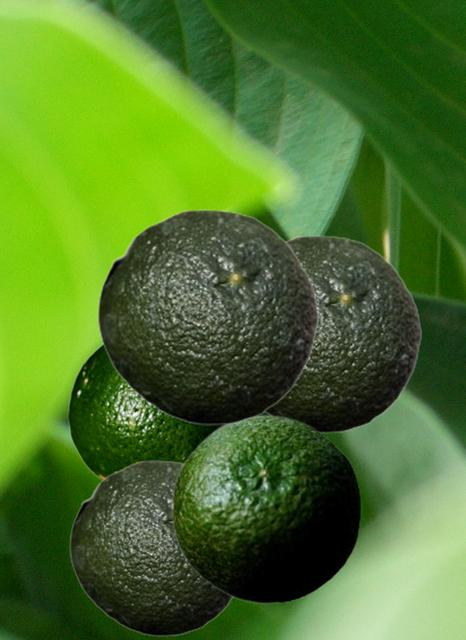calamansi: (97, 209, 318, 424), (171, 414, 360, 603), (265, 235, 421, 432), (69, 460, 234, 635), (67, 343, 219, 481)
